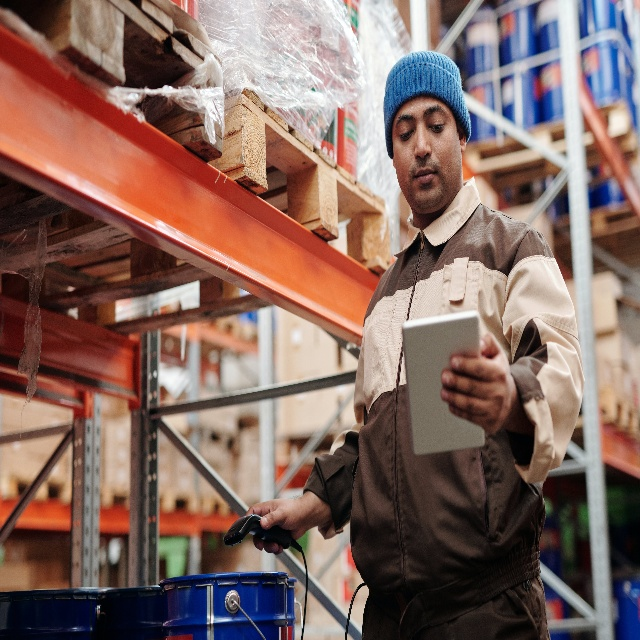Sin_guantes: (440, 332, 518, 436), (243, 490, 306, 557)
